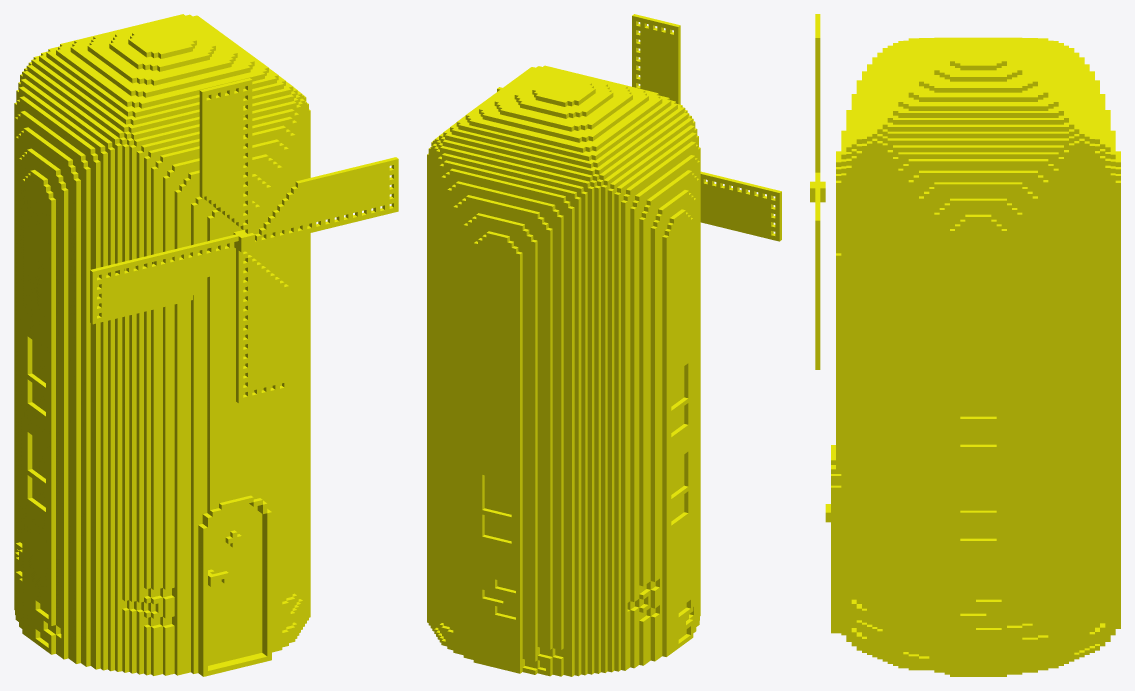
Rendered from voxel-farm-windmill.glb.
3 renders of one model, left to right at view 1: azimuth 30°, elevation 25°; view 2: azimuth 150°, elevation 25°; view 3: azimuth 270°, elevation 25°, orthographic. The views are drawn at different scales.
Visible parts, largest first — view 1: VS_Farm_Windmill; view 2: VS_Farm_Windmill; view 3: VS_Farm_Windmill.
Part boxes in pixels (x1,y1,x2,y2): VS_Farm_Windmill: [14, 14, 398, 676]; VS_Farm_Windmill: [427, 14, 781, 676]; VS_Farm_Windmill: [810, 14, 1120, 676].
Bounding box in the file's own units: 6.7 × 12.4 × 6.
